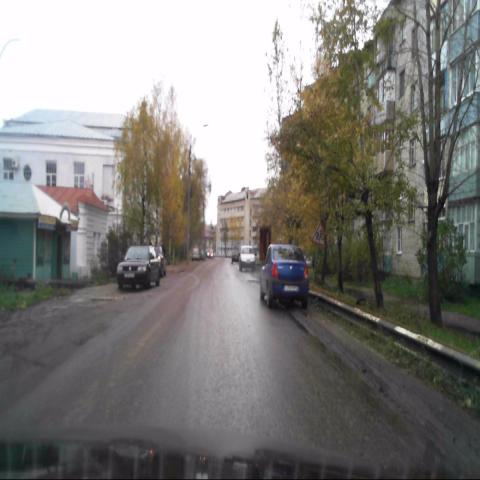1_23: (311, 220, 325, 246)
